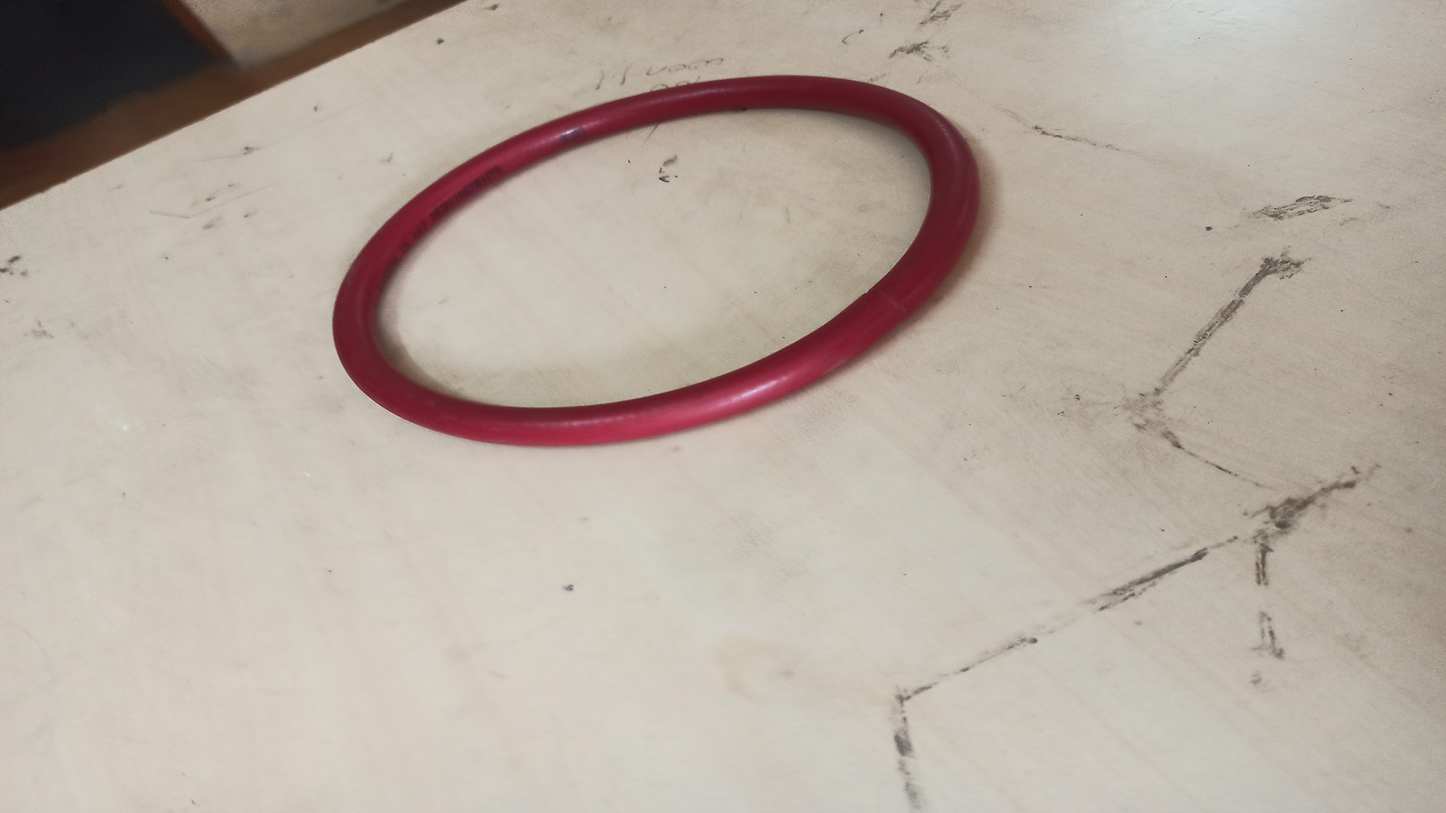Red ring: (328, 78, 981, 441)
